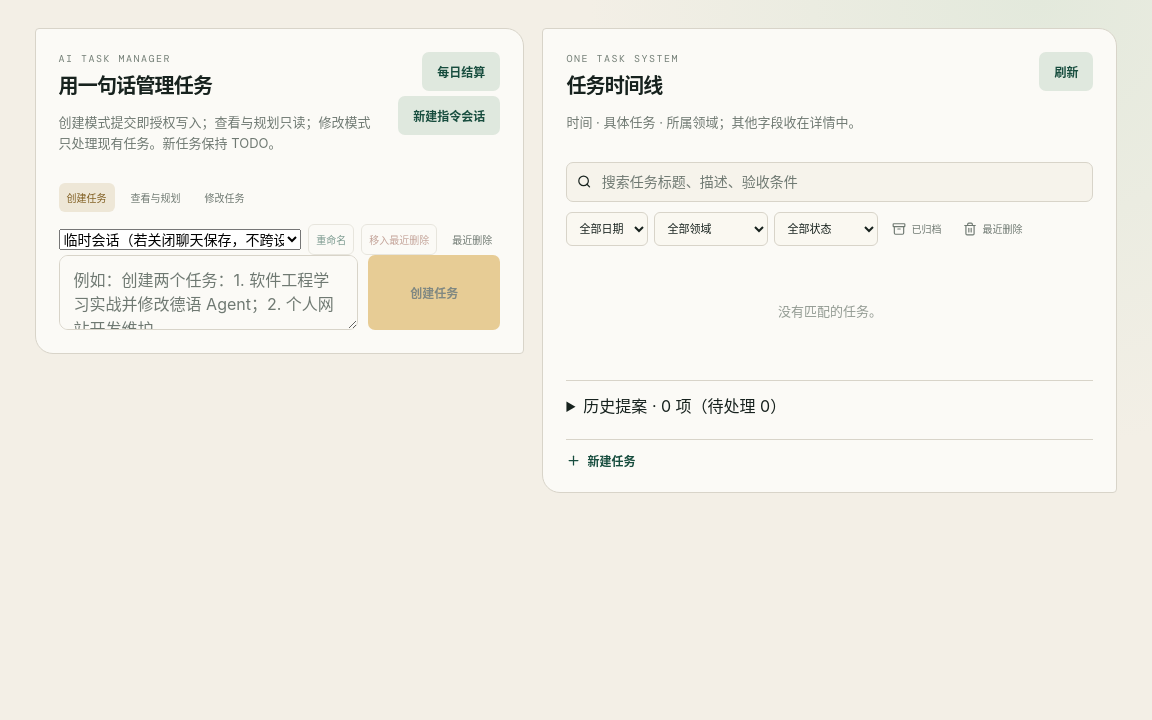
Scenario: AI-first task manager workspace › shows a task-count validation error instead of a generic success or internal message
Type "创建两个任务：甲；乙" into the text box named "AI 任务管理员输入" at (208, 292), box [59,255,358,330]
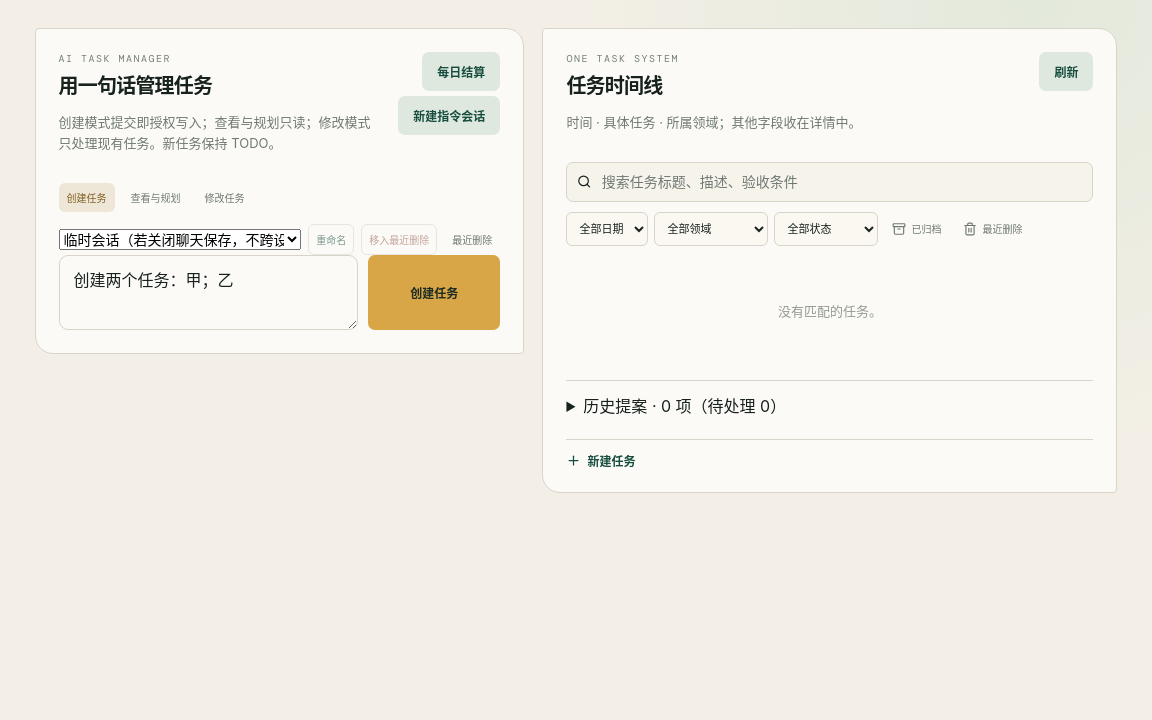
Click the 2nd button "创建任务" at (434, 292), box [368,255,500,330]
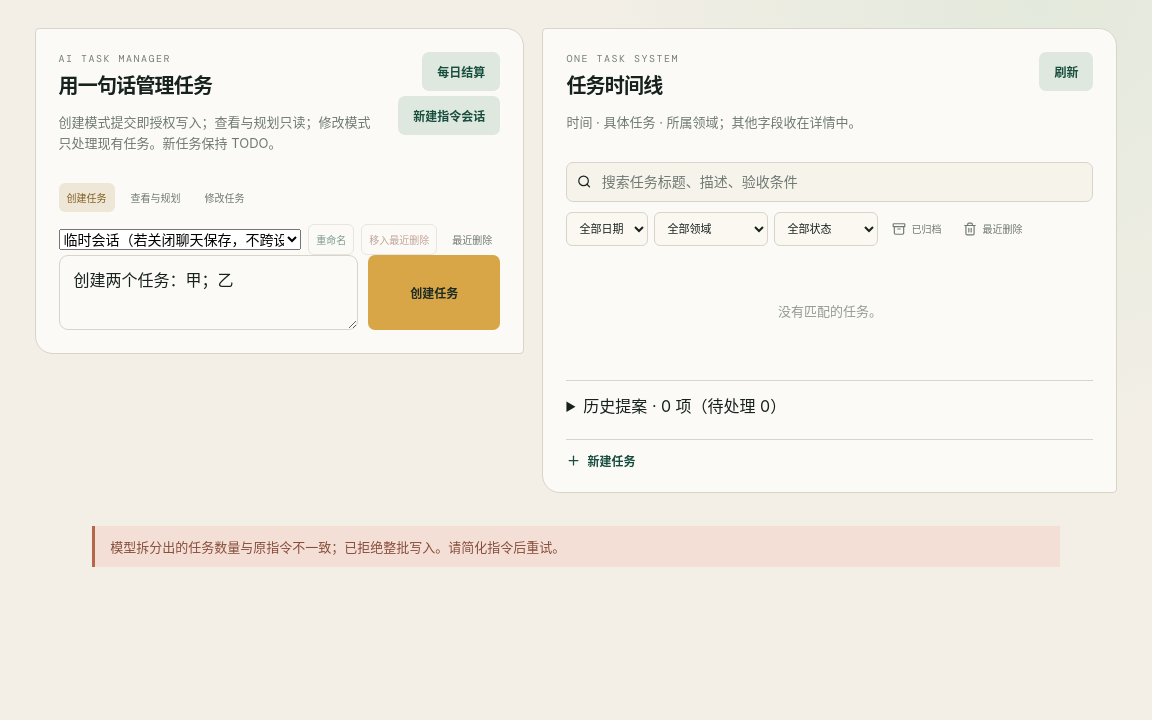
Expected: the text "模型拆分出的任务数量与原指令不一致；已拒绝整批写入。请简化指令后重试。" is shown, [92,526,1060,567]
